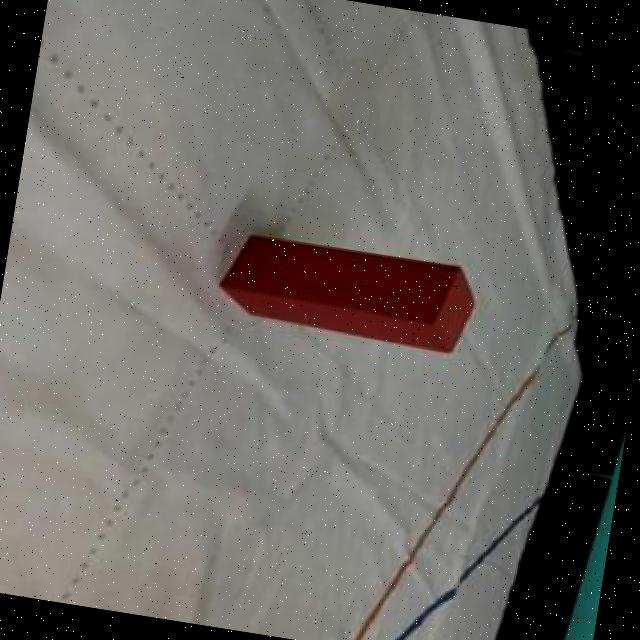redbox: (209, 228, 480, 358), (206, 334, 214, 340)
